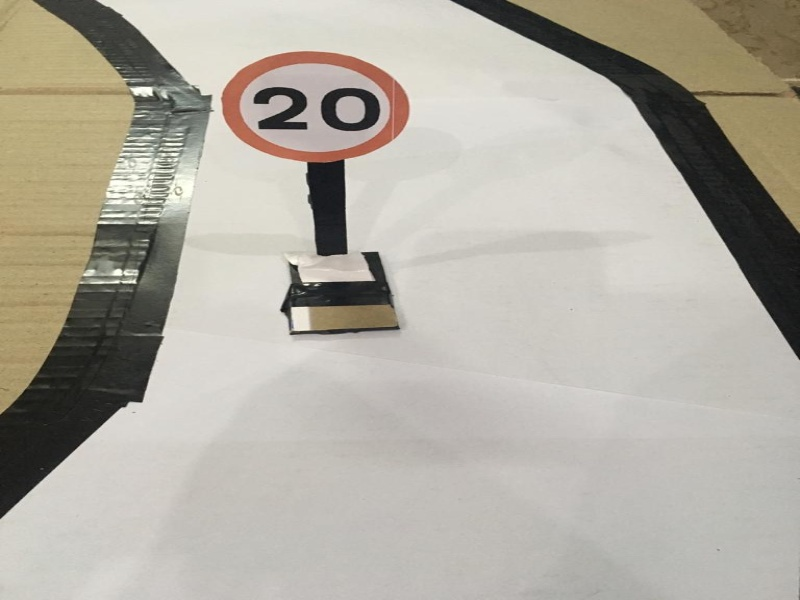Speed Limit 20: (219, 46, 410, 162)
